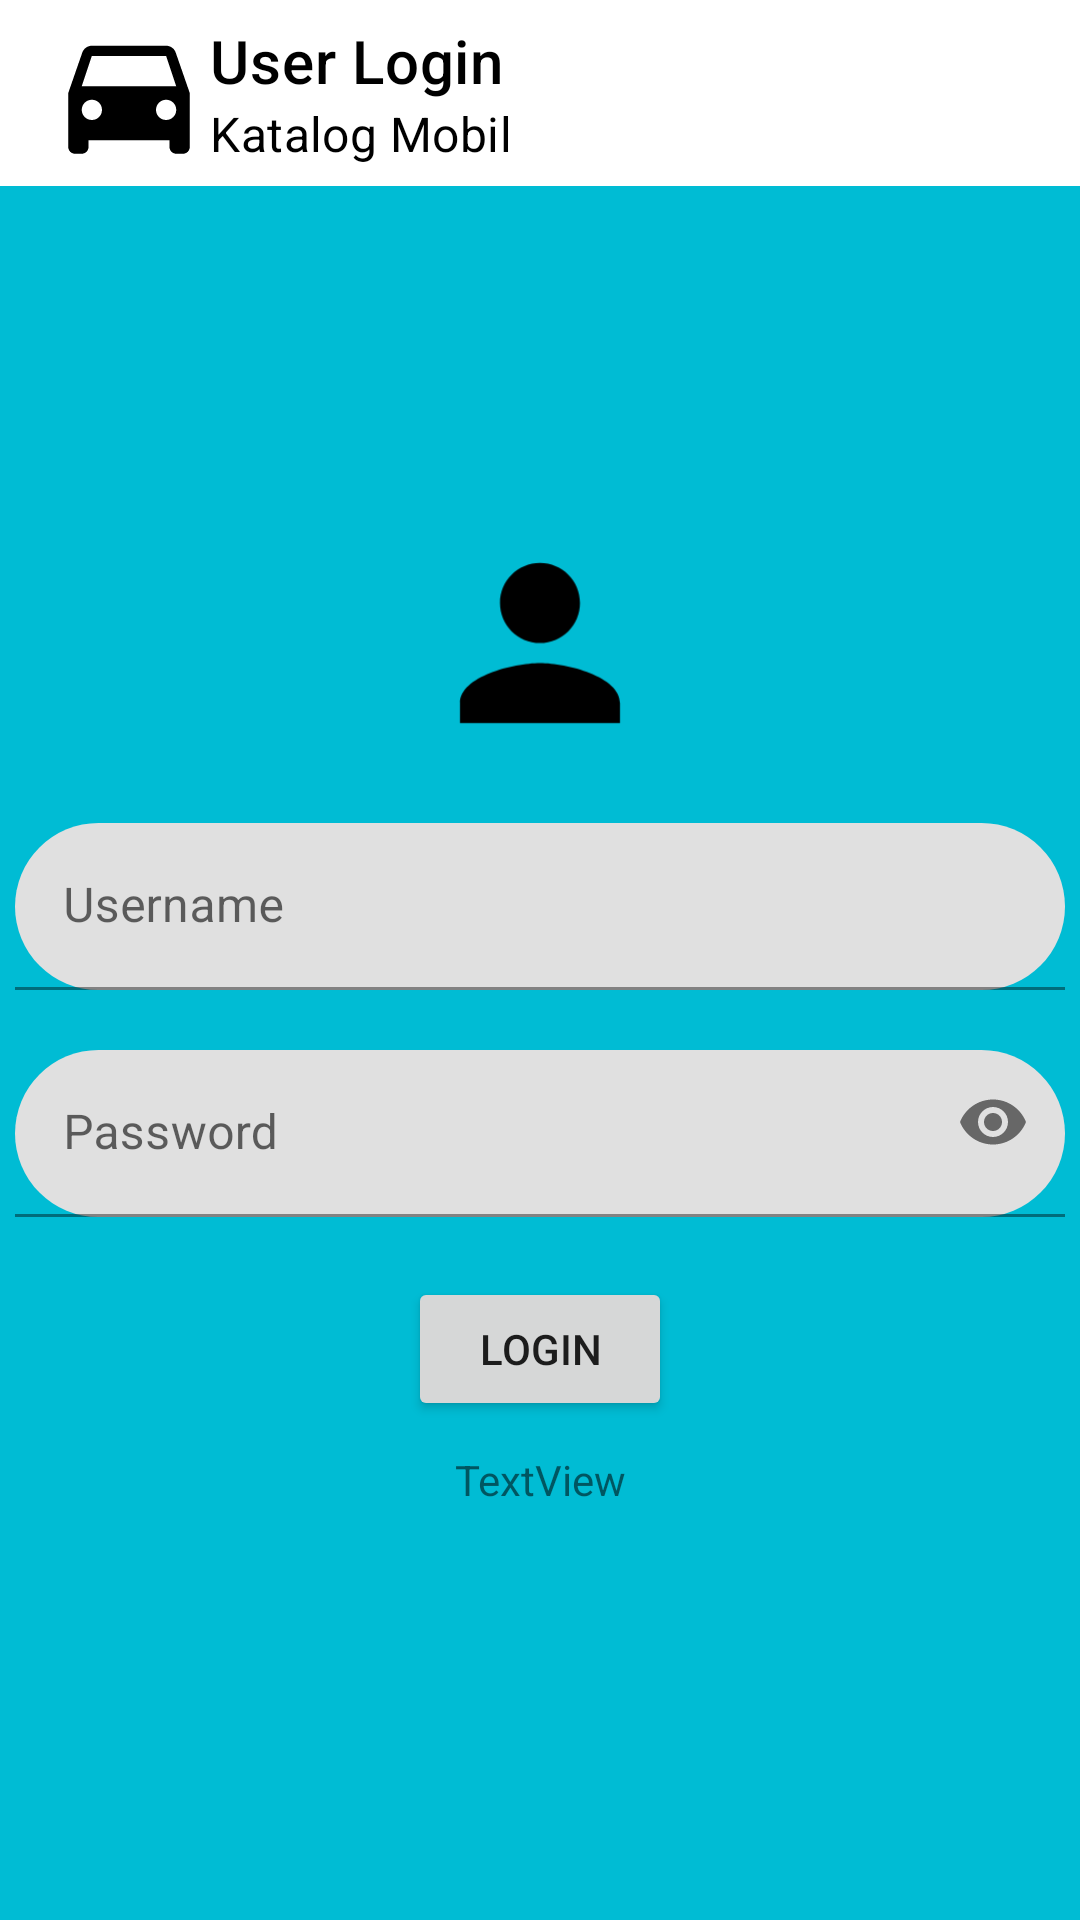

Locate icon controls on the screen. Image size 1080×1920, boxes as region(x1, y1, x2, y2).
person: region(459, 562, 621, 724)
